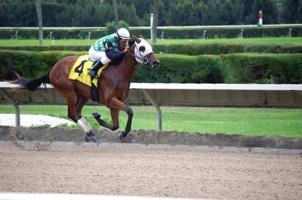person: (88, 27, 132, 79)
